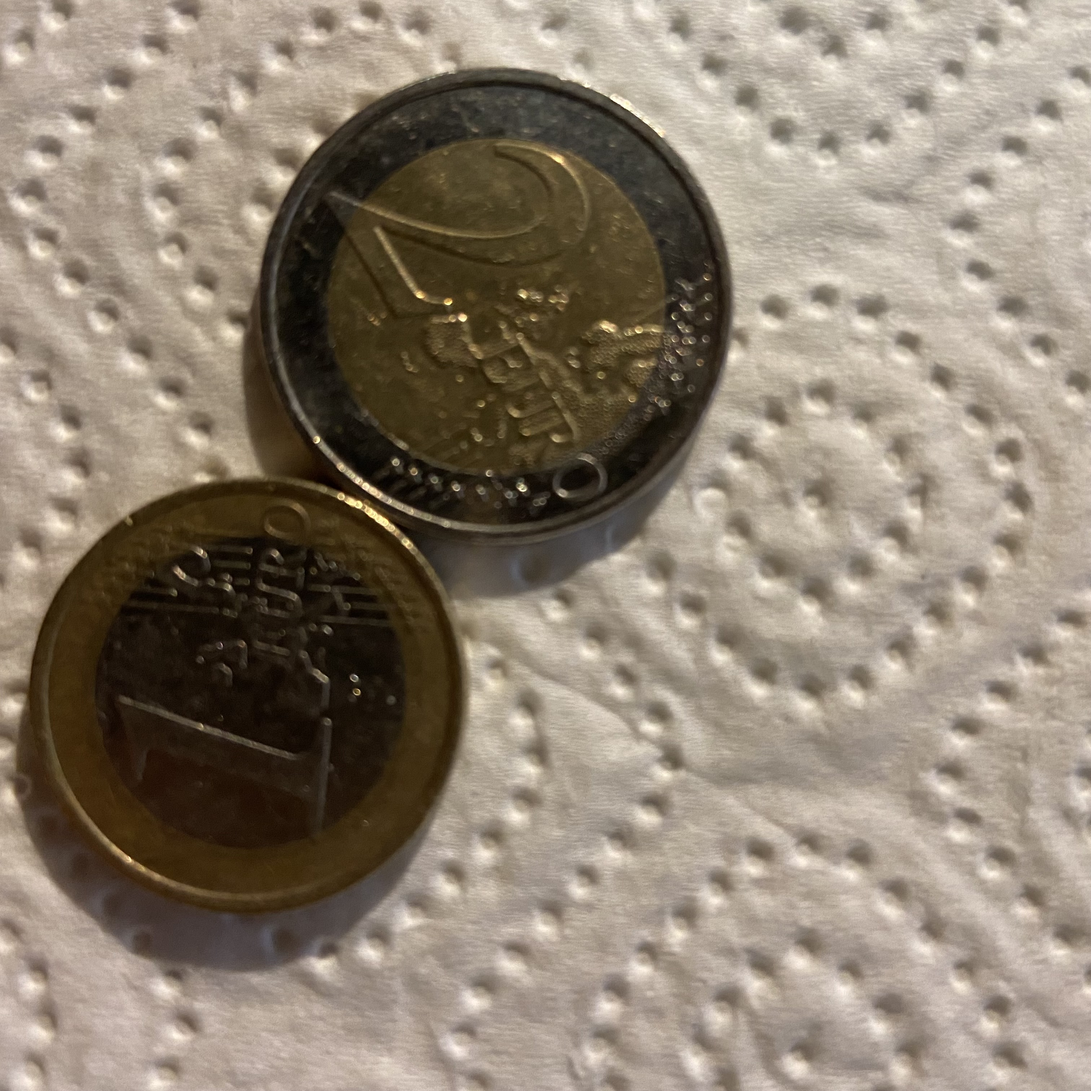1 euro: (35, 482, 464, 913)
2 euro: (257, 67, 738, 557)
